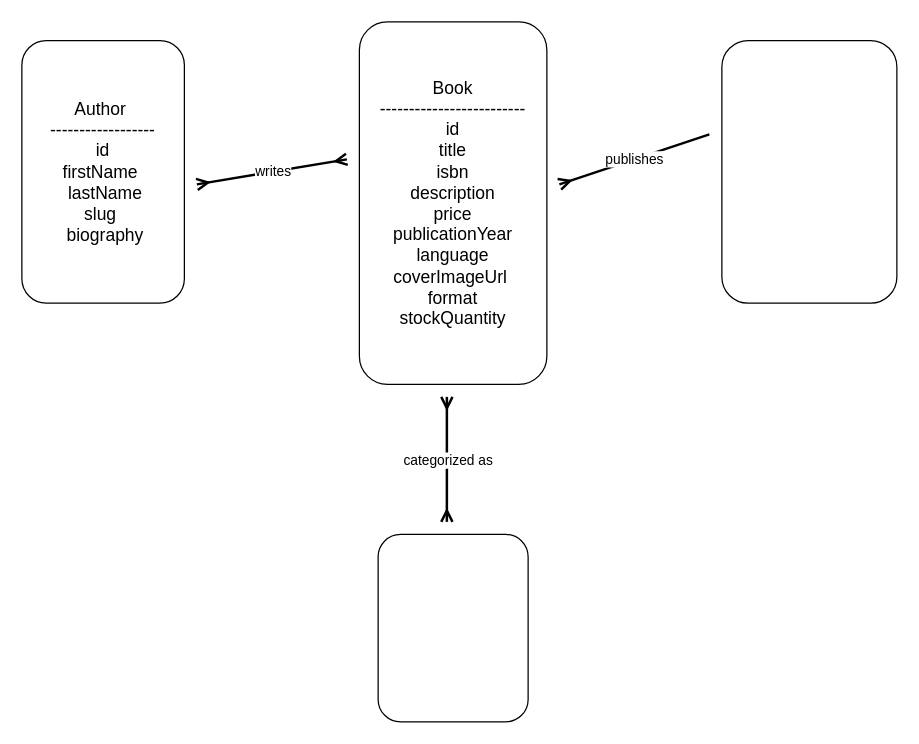
Some shapes in this 919 by 744 pixel diagram are drawn without their labels. The box of each missing label's shape, as (x1, y1, x2, y2) in pixels:
Category -------------------- id name description: (377, 533, 528, 722)
Publisher ------------------ id name country websiteUrl: (721, 39, 897, 303)
